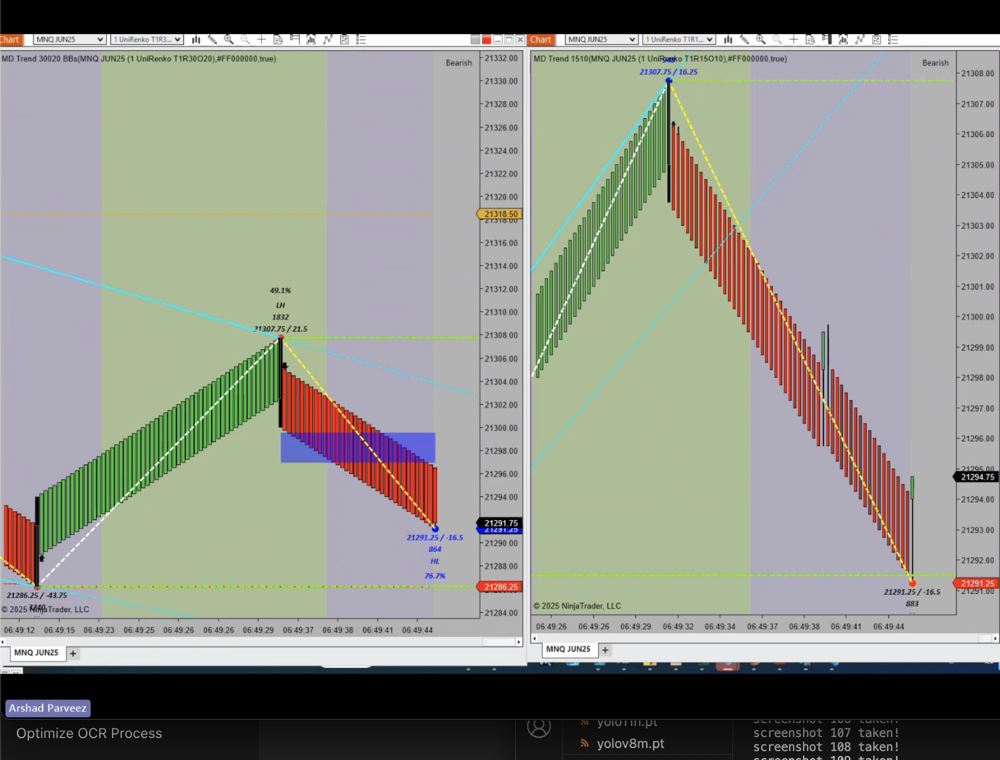HL: (423, 553, 444, 569)
LH: (268, 298, 295, 315)
